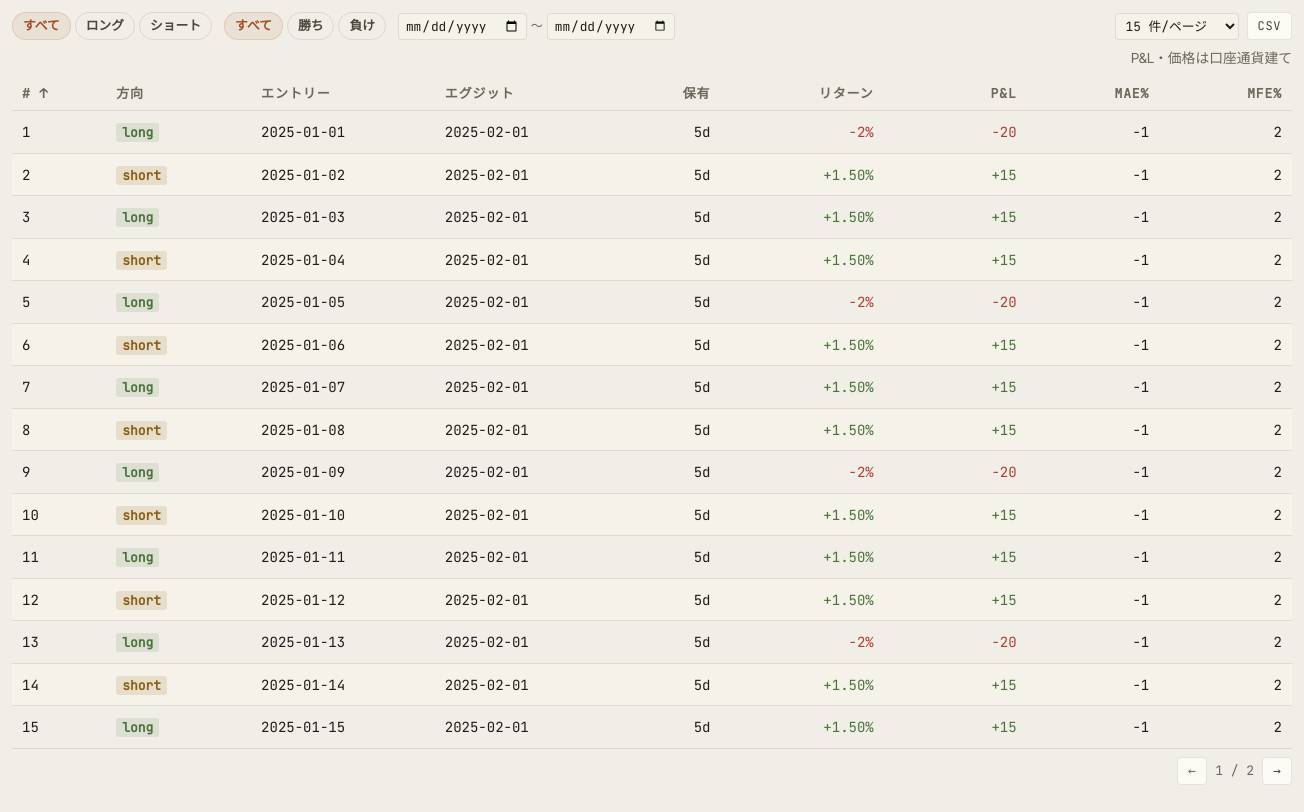
Scenario: TradeTable filters & paging (issue #371) › 勝敗チップで負けだけに絞り込め、絞り込み件数が見える
Click the button "負け" at (362, 26), box [338, 12, 386, 40]
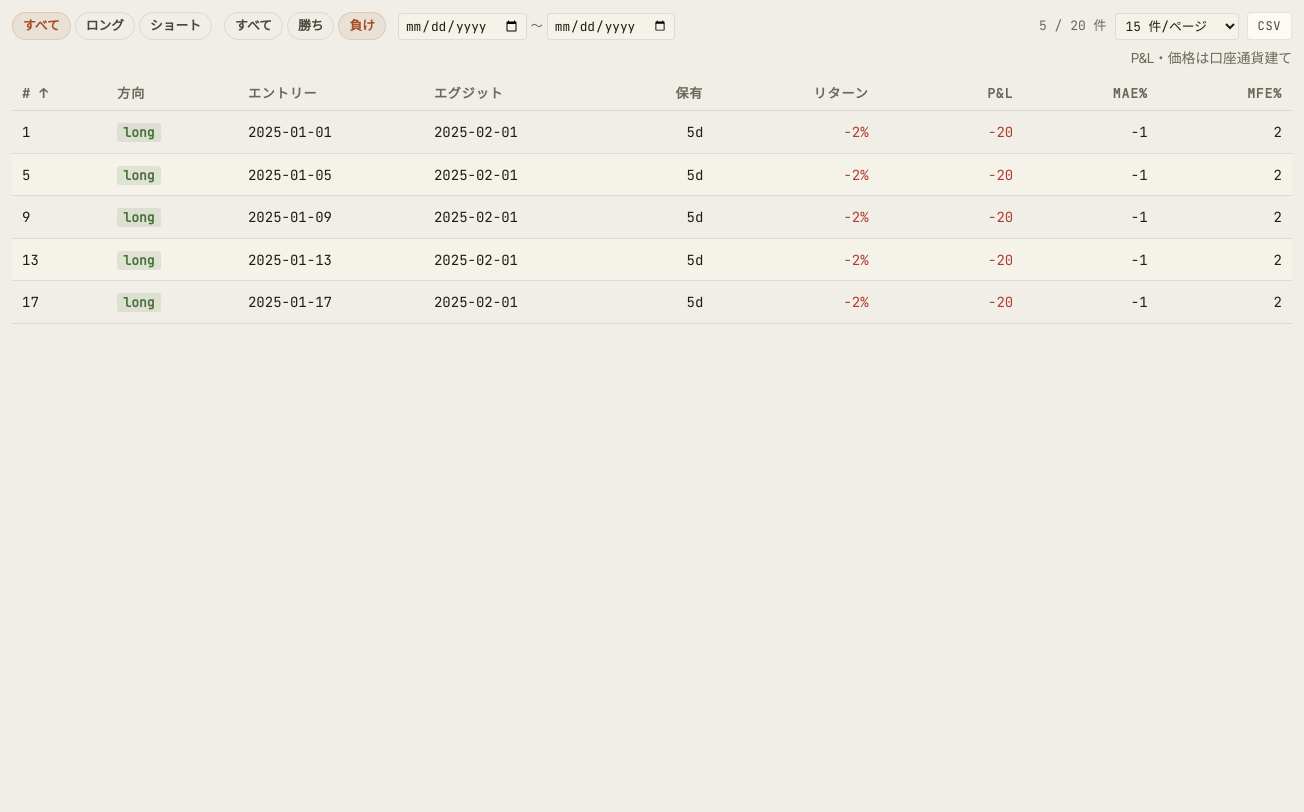
Expected: the text "5 / 20 件" is shown, [1039, 16, 1107, 36]
